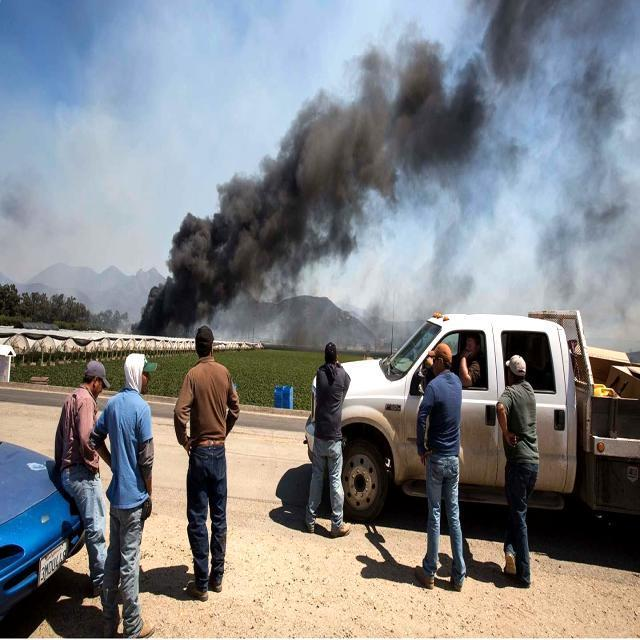Smoke: (150, 21, 526, 330)
